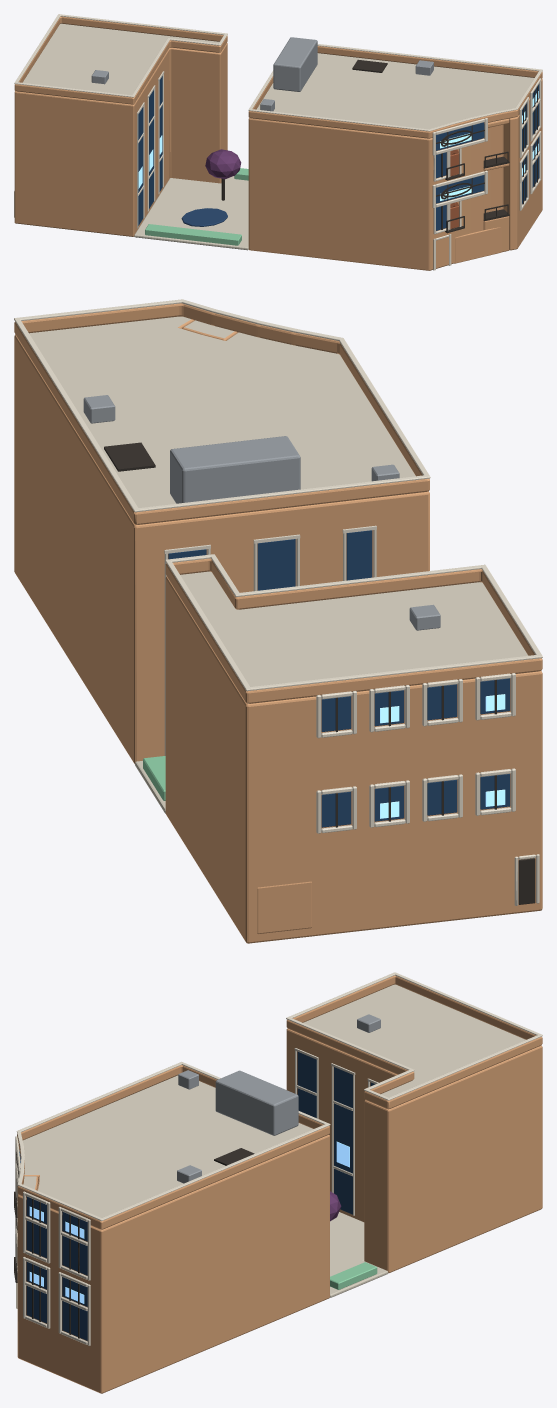
File: 10-south-park.optimized.glb
3 views of the same model, one above another, from view 1: azimuth 30°, elevation 25°; view 2: azimuth 150°, elevation 25°; view 3: azimuth 270°, elevation 25° (orthographic). The views are drawn at different scales.
Visible parts, largest first — view 1: grp_Toy_apricot_Toy_stone, grp_Toy_apricot, grp_Toy_sand, court_slab, grp_Toy_glass, grp_Toy_steel, grp_Toy_ink, grp_Toy_mint, tree_canopy, grp_Toy_glassl_Glow, pond, grp_Toy_rust; view 2: grp_Toy_apricot_Toy_stone, grp_Toy_apricot, grp_Toy_sand, grp_Toy_glass, grp_Toy_steel, grp_Toy_ink, grp_Toy_glassl_Glow; view 3: grp_Toy_apricot_Toy_stone, grp_Toy_apricot, grp_Toy_sand, grp_Toy_glass, grp_Toy_steel, court_slab, grp_Toy_ink, grp_Toy_glassl_Glow, grp_Toy_mint.
Part boxes in pixels (bbox=[...]): grp_Toy_apricot_Toy_stone: bbox=[14, 23, 542, 270]; grp_Toy_apricot: bbox=[14, 16, 542, 263]; grp_Toy_sand: bbox=[14, 14, 542, 270]; court_slab: bbox=[134, 176, 248, 250]; grp_Toy_glass: bbox=[138, 76, 539, 230]; grp_Toy_steel: bbox=[91, 37, 433, 111]; grp_Toy_ink: bbox=[221, 59, 537, 233]; grp_Toy_mint: bbox=[145, 168, 248, 245]; tree_canopy: bbox=[205, 149, 241, 179]; grp_Toy_glassl_Glow: bbox=[138, 91, 538, 200]; pond: bbox=[181, 208, 227, 226]; grp_Toy_rust: bbox=[450, 149, 459, 228]; grp_Toy_apricot_Toy_stone: bbox=[14, 316, 542, 943]; grp_Toy_apricot: bbox=[14, 303, 542, 933]; grp_Toy_sand: bbox=[14, 299, 542, 905]; grp_Toy_glass: bbox=[168, 530, 510, 827]; grp_Toy_steel: bbox=[83, 395, 440, 630]; grp_Toy_ink: bbox=[104, 442, 535, 904]; grp_Toy_glassl_Glow: bbox=[380, 694, 505, 818]; grp_Toy_apricot_Toy_stone: bbox=[17, 984, 542, 1393]; grp_Toy_apricot: bbox=[17, 975, 542, 1229]; grp_Toy_sand: bbox=[15, 972, 542, 1345]; grp_Toy_glass: bbox=[19, 1052, 374, 1340]; grp_Toy_steel: bbox=[177, 1014, 380, 1183]; court_slab: bbox=[330, 1212, 388, 1297]; grp_Toy_ink: bbox=[14, 1148, 254, 1338]; grp_Toy_glassl_Glow: bbox=[29, 1141, 349, 1303]; grp_Toy_mint: bbox=[330, 1262, 377, 1289].
Size of the model in its own units: 39.94 by 14.67 by 36.
